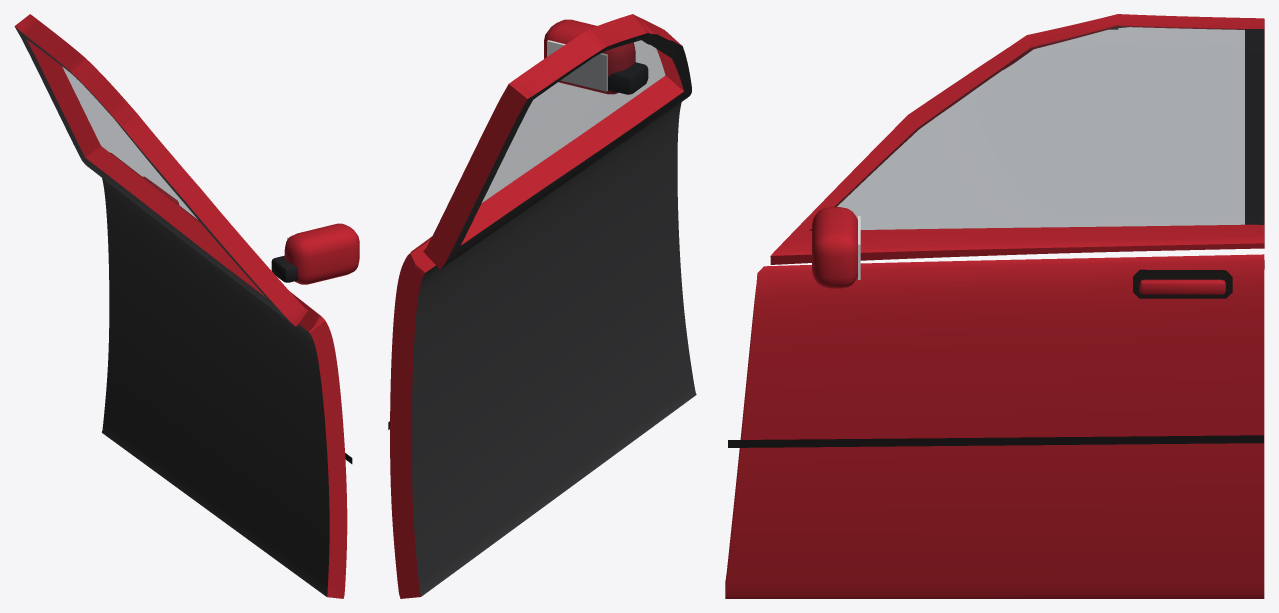
Rendered from door_front_left.glb.
3 views of the same model, side by side, from view 1: azimuth 30°, elevation 25°; view 2: azimuth 150°, elevation 25°; view 3: azimuth 270°, elevation 25° (orthographic). The views are drawn at different scales.
Parts seen in each view (by area): view 1: door_front_left; view 2: door_front_left; view 3: door_front_left.
Boxes of the visible parts, x1,y1,x2,y2 form: door_front_left: (14,14,359,598); door_front_left: (388,14,696,598); door_front_left: (725,14,1264,598).
Bounding box in the file's own units: 0.4227 × 1.08 × 0.9965.
